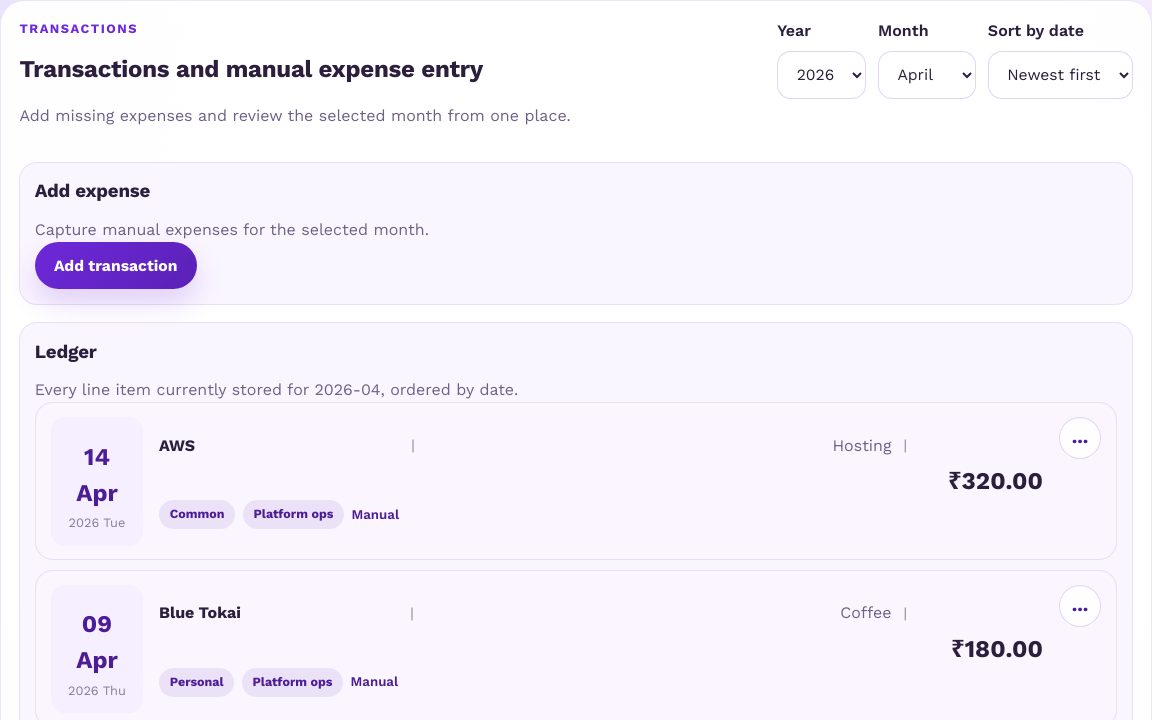
Test case: transactions page fetches and renders live transactions
Check: the text "Transactions" is shown, box [19,21,138,36]
Check: the dropdown labelled "Year" shows "2026", box [777,51,866,99]
Select "Oldest first" in the dropdown labelled "Sort by date" at point(1060, 75), box [988,51,1133,99]
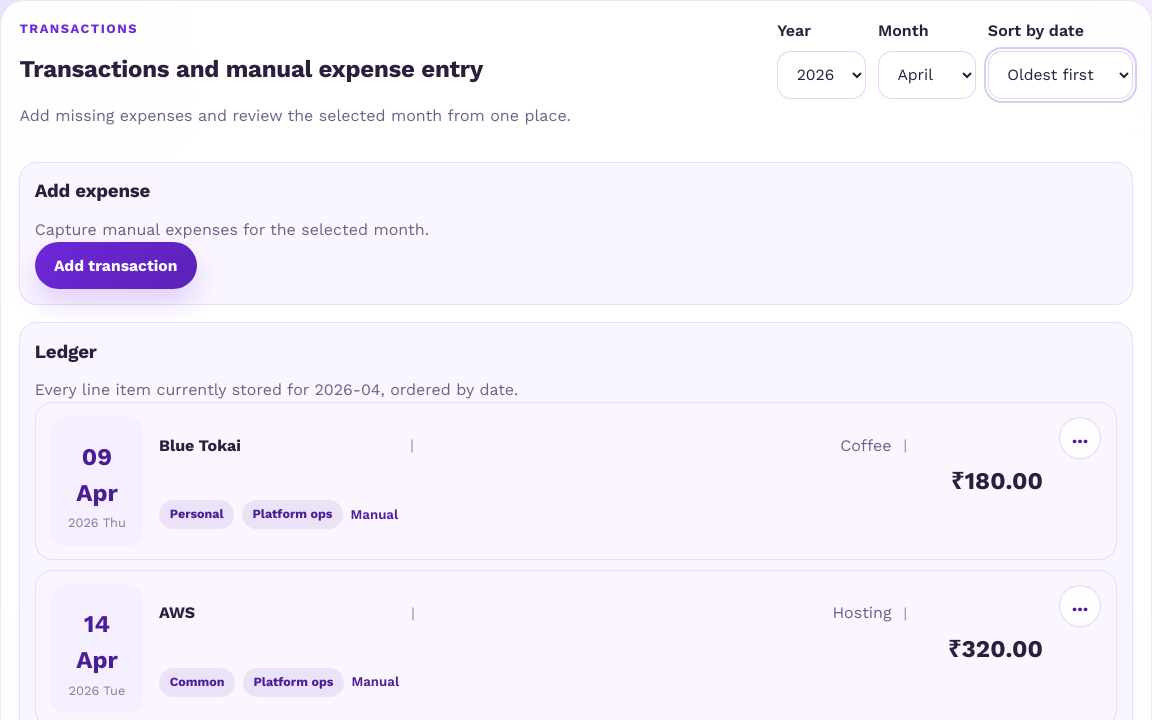
Check: the text "Blue Tokai" is shown, box [159,436,241,455]
Check: the text "AWS" is shown, box [159,603,195,622]
Select "2025" in the dropdown labelled "Year" at point(822, 75), box [777,51,866,99]
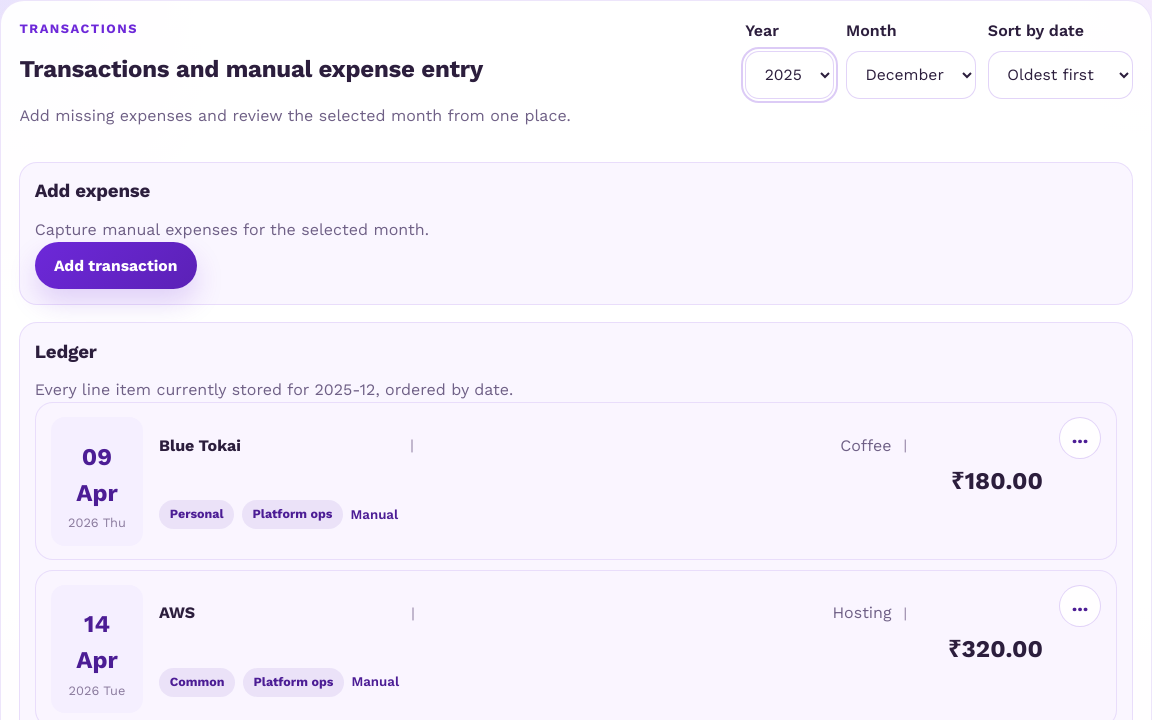
Check: the option "April" is not shown
Check: the dropdown labelled "Month" shows "December", box [846,51,976,99]
